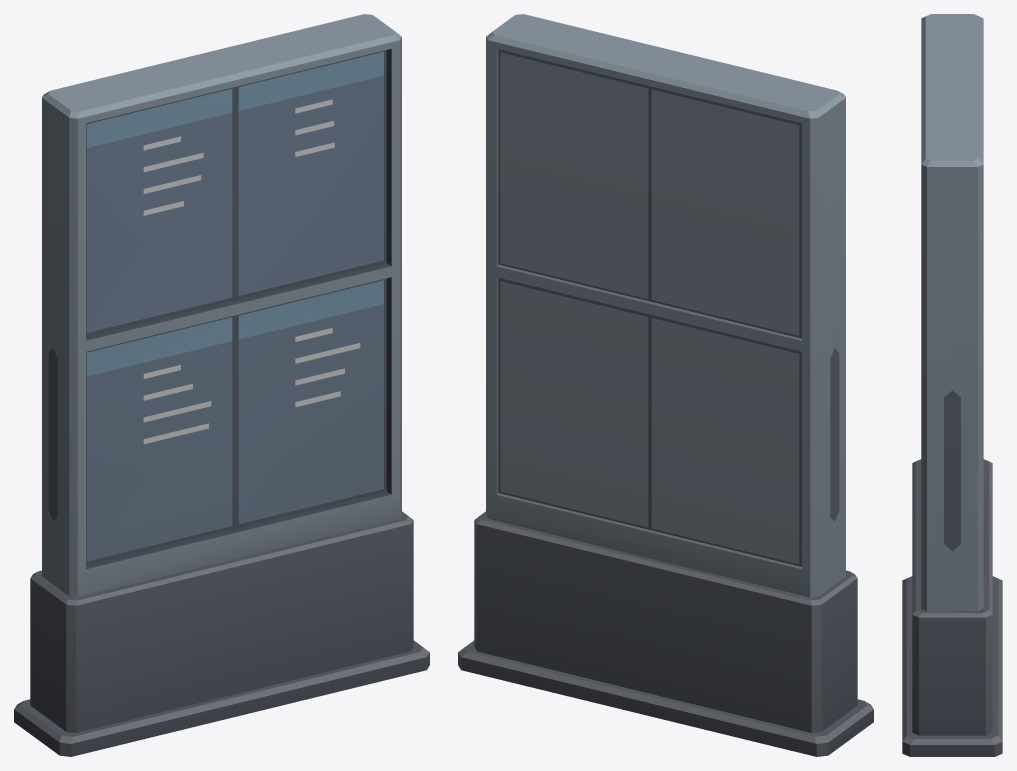
Rendered from depboard.lod.glb.
3 views of the same model, side by side, from view 1: azimuth 30°, elevation 25°; view 2: azimuth 150°, elevation 25°; view 3: azimuth 270°, elevation 25° (orthographic). The views are drawn at different scales.
Visible parts, largest first — view 1: depboard; view 2: depboard; view 3: depboard.
Boxes of the visible parts, x1,y1,x2,y2 form: depboard: (14, 14, 429, 756); depboard: (458, 14, 873, 756); depboard: (902, 14, 1002, 756).
Size of the model in its own units: 1.78 by 2.9 by 0.45.
